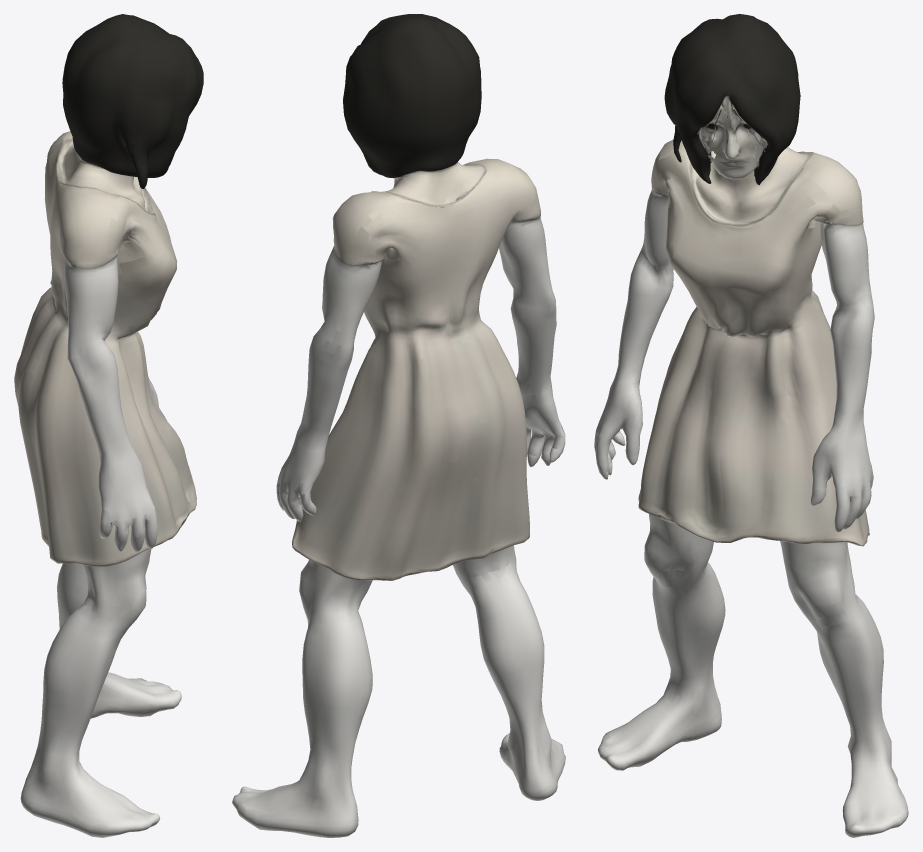
File: standing.glb
3 renders of one model, left to right at view 1: azimuth 30°, elevation 25°; view 2: azimuth 150°, elevation 25°; view 3: azimuth 270°, elevation 25°, orthographic.
Visible parts, largest first — view 1: tripo_node_3b2f1974-9a16-4b81-9459-b725fe5577d4.003; view 2: tripo_node_3b2f1974-9a16-4b81-9459-b725fe5577d4.003; view 3: tripo_node_3b2f1974-9a16-4b81-9459-b725fe5577d4.003.
Part boxes in pixels (<box>): tripo_node_3b2f1974-9a16-4b81-9459-b725fe5577d4.003: <box>14,14,203,837</box>; tripo_node_3b2f1974-9a16-4b81-9459-b725fe5577d4.003: <box>232,14,565,837</box>; tripo_node_3b2f1974-9a16-4b81-9459-b725fe5577d4.003: <box>594,14,908,837</box>.
Bounding box in the file's own units: 0.5719 × 1.8 × 0.6611.
1 material, 1 textured.
